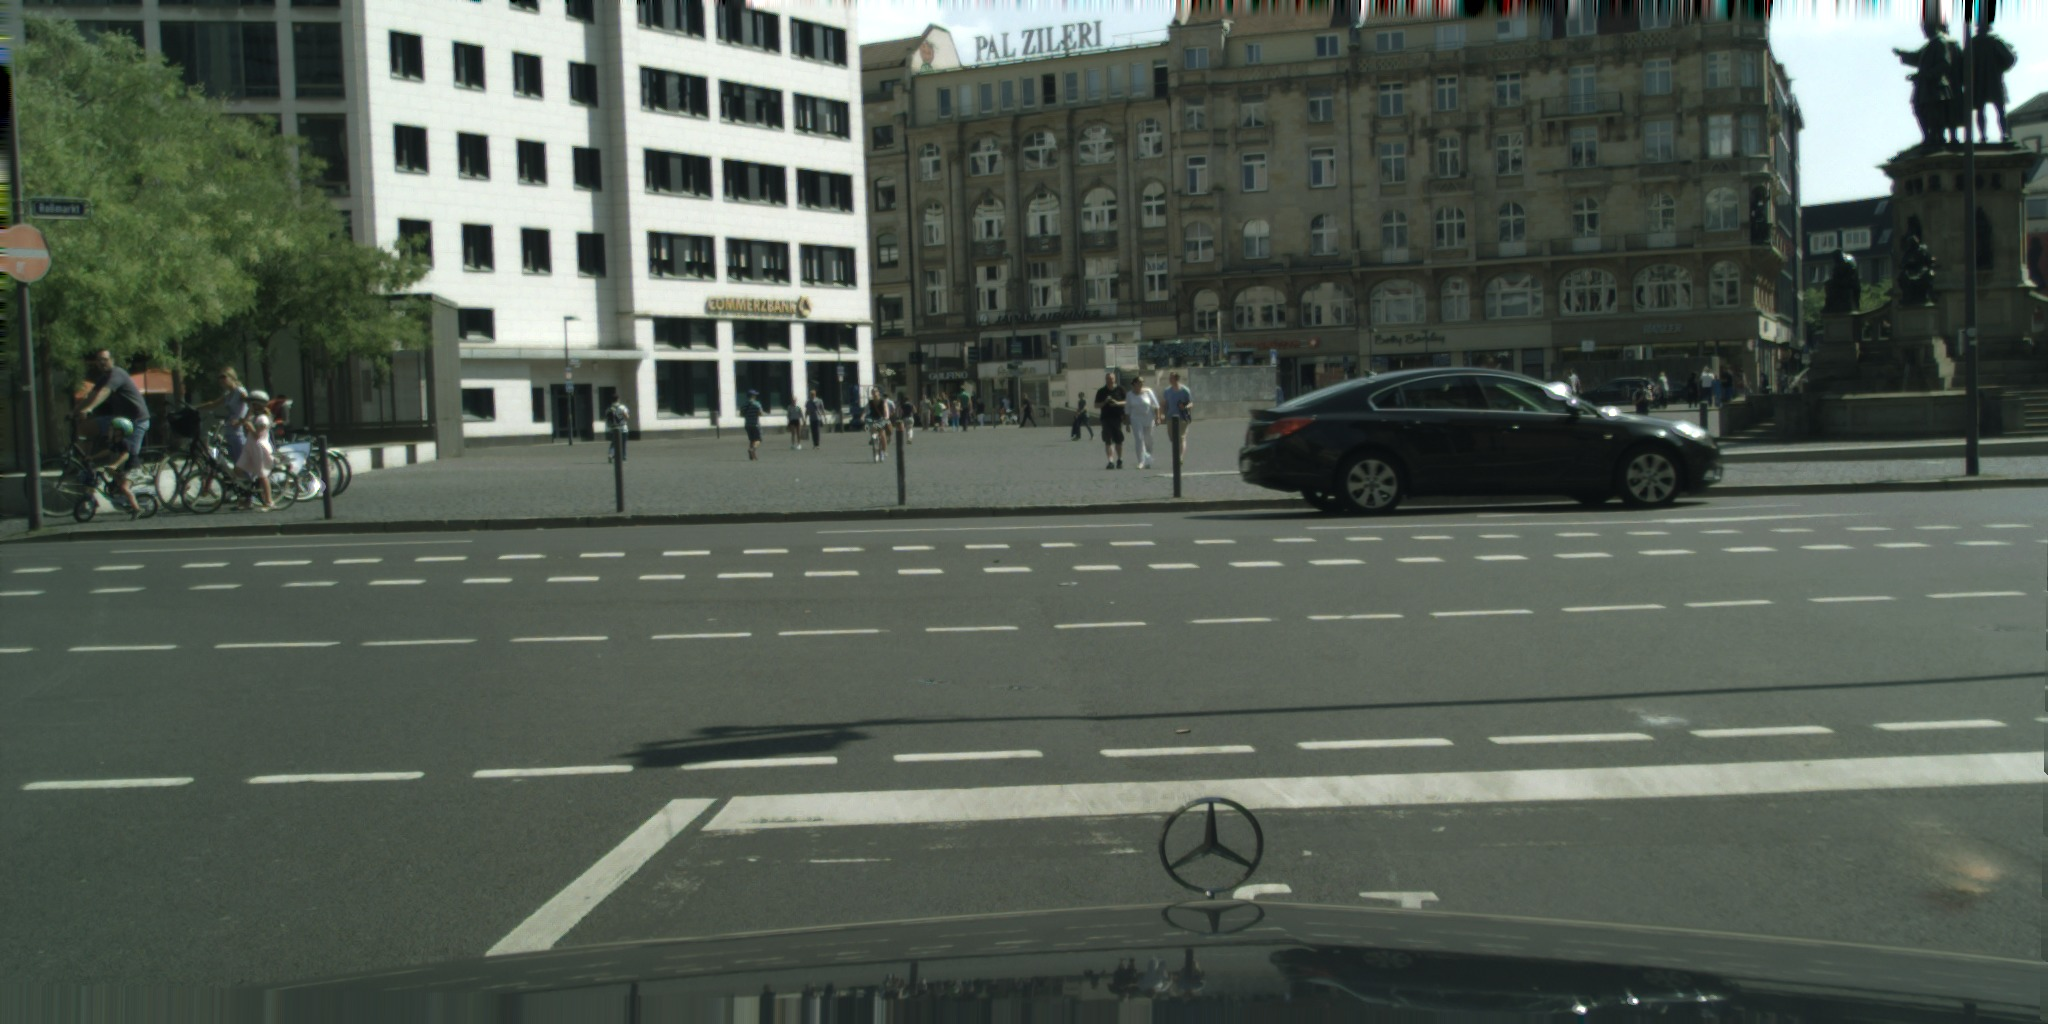bicycle: (21, 414, 180, 520), (152, 397, 258, 514), (180, 427, 299, 515), (73, 460, 160, 523), (860, 419, 891, 463)
car: (1237, 367, 1724, 517), (1574, 376, 1661, 408), (1659, 379, 1705, 405)
person: (1094, 371, 1130, 469), (1124, 375, 1160, 469), (1161, 371, 1195, 468), (605, 392, 631, 463), (740, 389, 765, 460), (800, 389, 828, 449), (258, 390, 288, 446), (1070, 392, 1094, 442), (872, 392, 896, 444), (785, 395, 806, 450), (1564, 368, 1583, 424), (1632, 379, 1653, 428), (899, 395, 917, 444), (1719, 363, 1735, 420), (956, 386, 973, 431), (1018, 392, 1035, 428), (1656, 370, 1672, 409), (1700, 365, 1715, 406), (931, 397, 947, 433), (1776, 367, 1789, 406), (918, 393, 931, 431), (1686, 371, 1697, 409), (928, 397, 940, 427), (1711, 375, 1722, 411), (1000, 395, 1011, 422), (951, 400, 959, 433), (1762, 375, 1770, 406), (977, 398, 984, 425)
rider: (73, 346, 152, 490), (190, 367, 264, 466), (229, 389, 288, 514), (82, 416, 147, 518), (860, 387, 894, 457)
